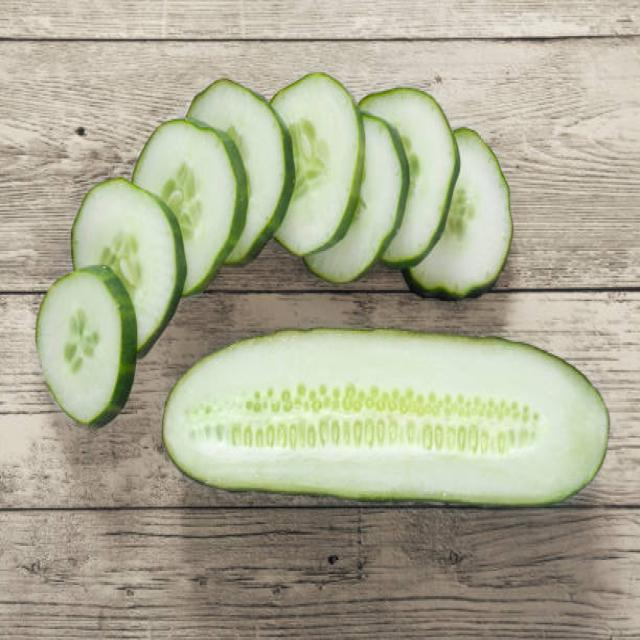cucumber: (161, 330, 609, 510)
